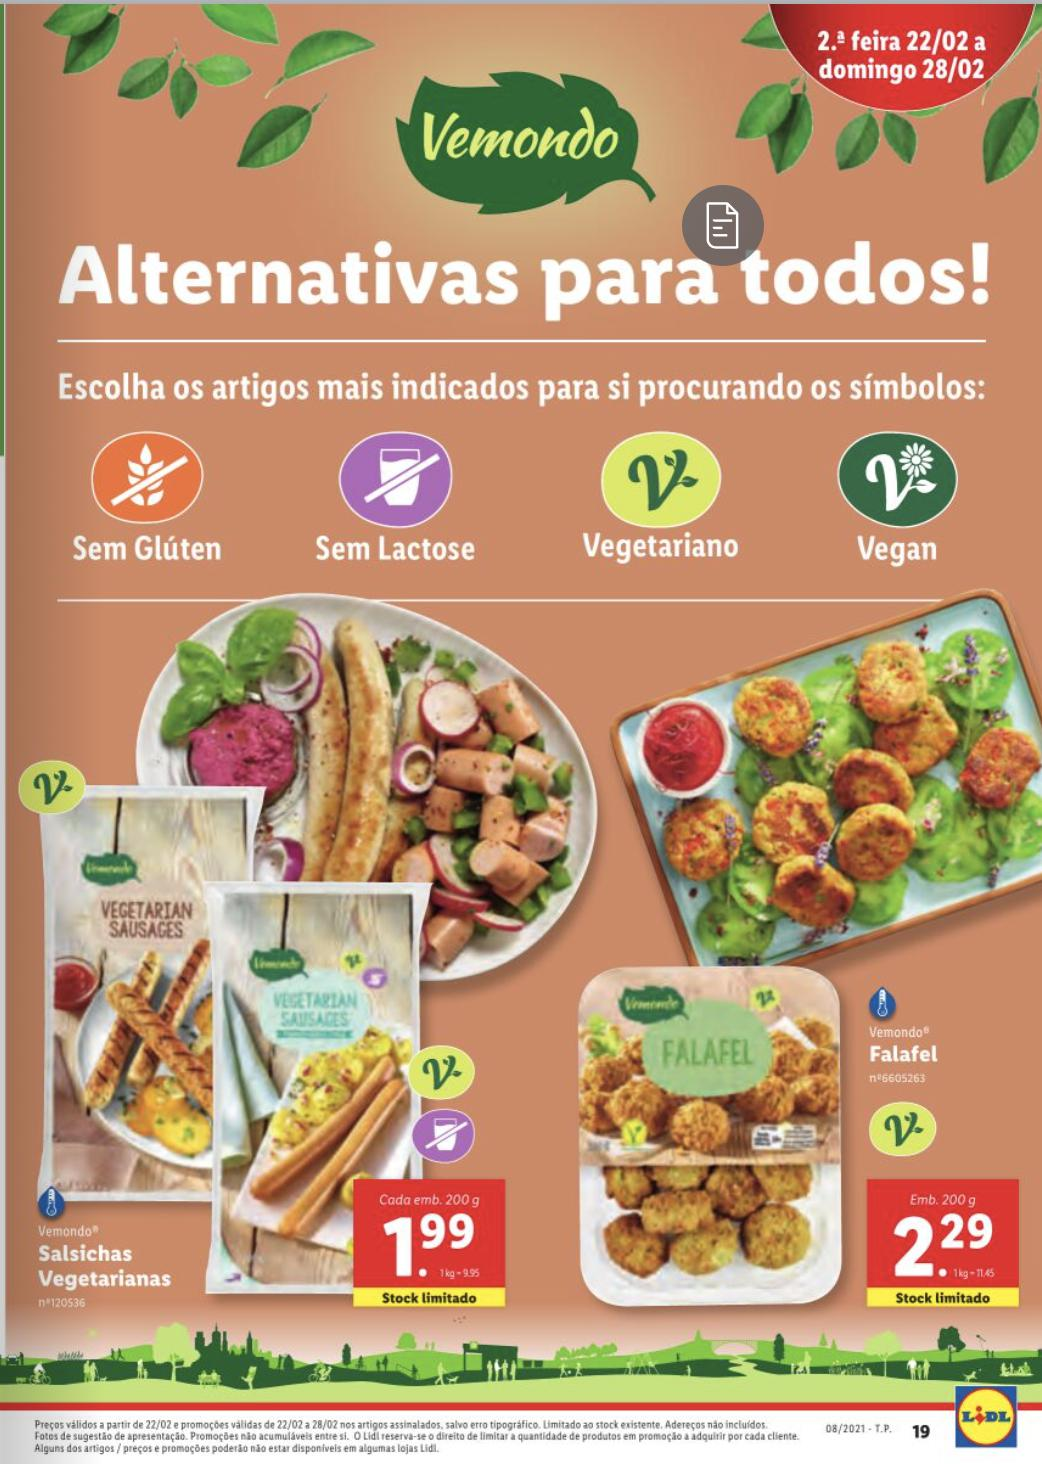name: (28, 1238, 182, 1296), (864, 1038, 948, 1075)
price: (891, 1206, 1010, 1284), (376, 1215, 486, 1286)
product: (11, 758, 526, 1316), (573, 951, 1031, 1309)
